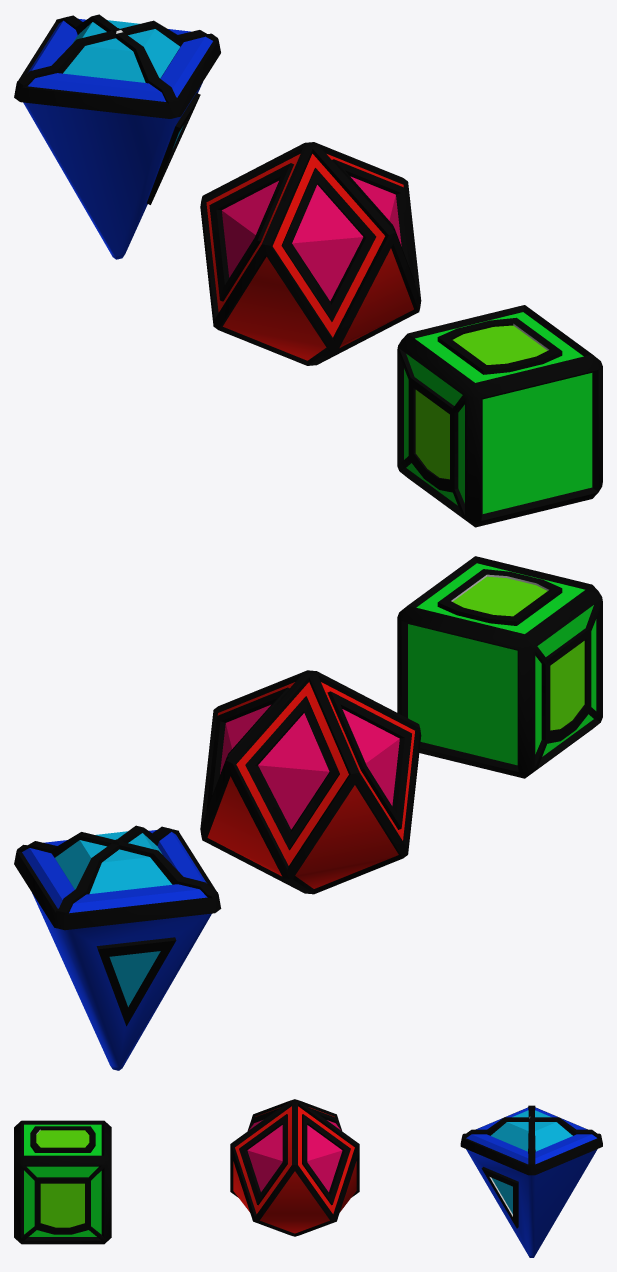
File: RuneStones.fbx
The picture shows the model from 3 angles, top to bottom: view 1: azimuth 30°, elevation 25°; view 2: azimuth 150°, elevation 25°; view 3: azimuth 270°, elevation 25°; orthographic projection. The views are drawn at different scales.
Parts seen in each view (by area): view 1: Sphere_Rune, Cube_Rune, Cone_Rune; view 2: Sphere_Rune, Cube_Rune, Cone_Rune; view 3: Sphere_Rune, Cube_Rune, Cone_Rune.
Boxes of the visible parts, <box> form: Sphere_Rune: <box>200,142,421,365</box>; Cube_Rune: <box>397,305,602,527</box>; Cone_Rune: <box>14,14,220,259</box>; Sphere_Rune: <box>200,670,421,894</box>; Cube_Rune: <box>397,556,602,778</box>; Cone_Rune: <box>14,825,221,1070</box>; Sphere_Rune: <box>230,1099,359,1236</box>; Cube_Rune: <box>14,1120,111,1244</box>; Cone_Rune: <box>460,1105,602,1257</box>.
Size of the model in its own units: 206 by 248 by 851.
